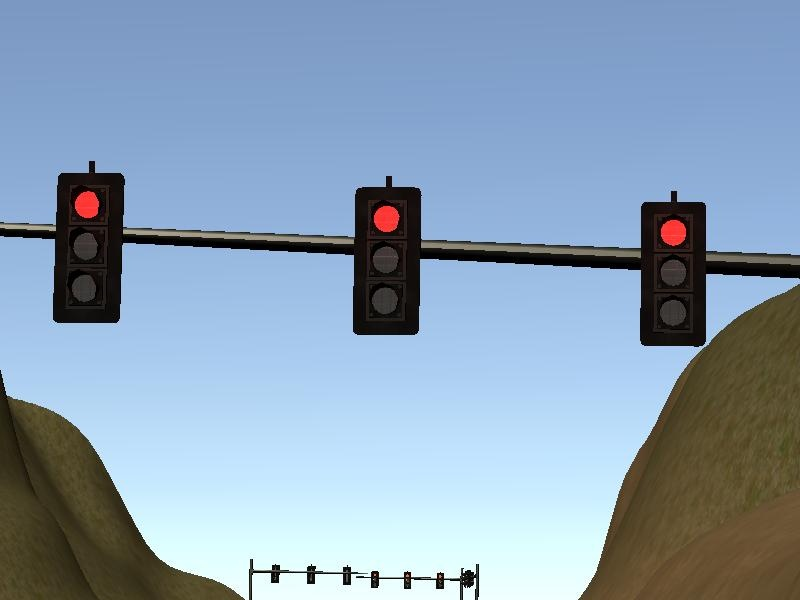RED: (50, 174, 124, 322), (351, 187, 421, 336), (638, 202, 707, 347)
